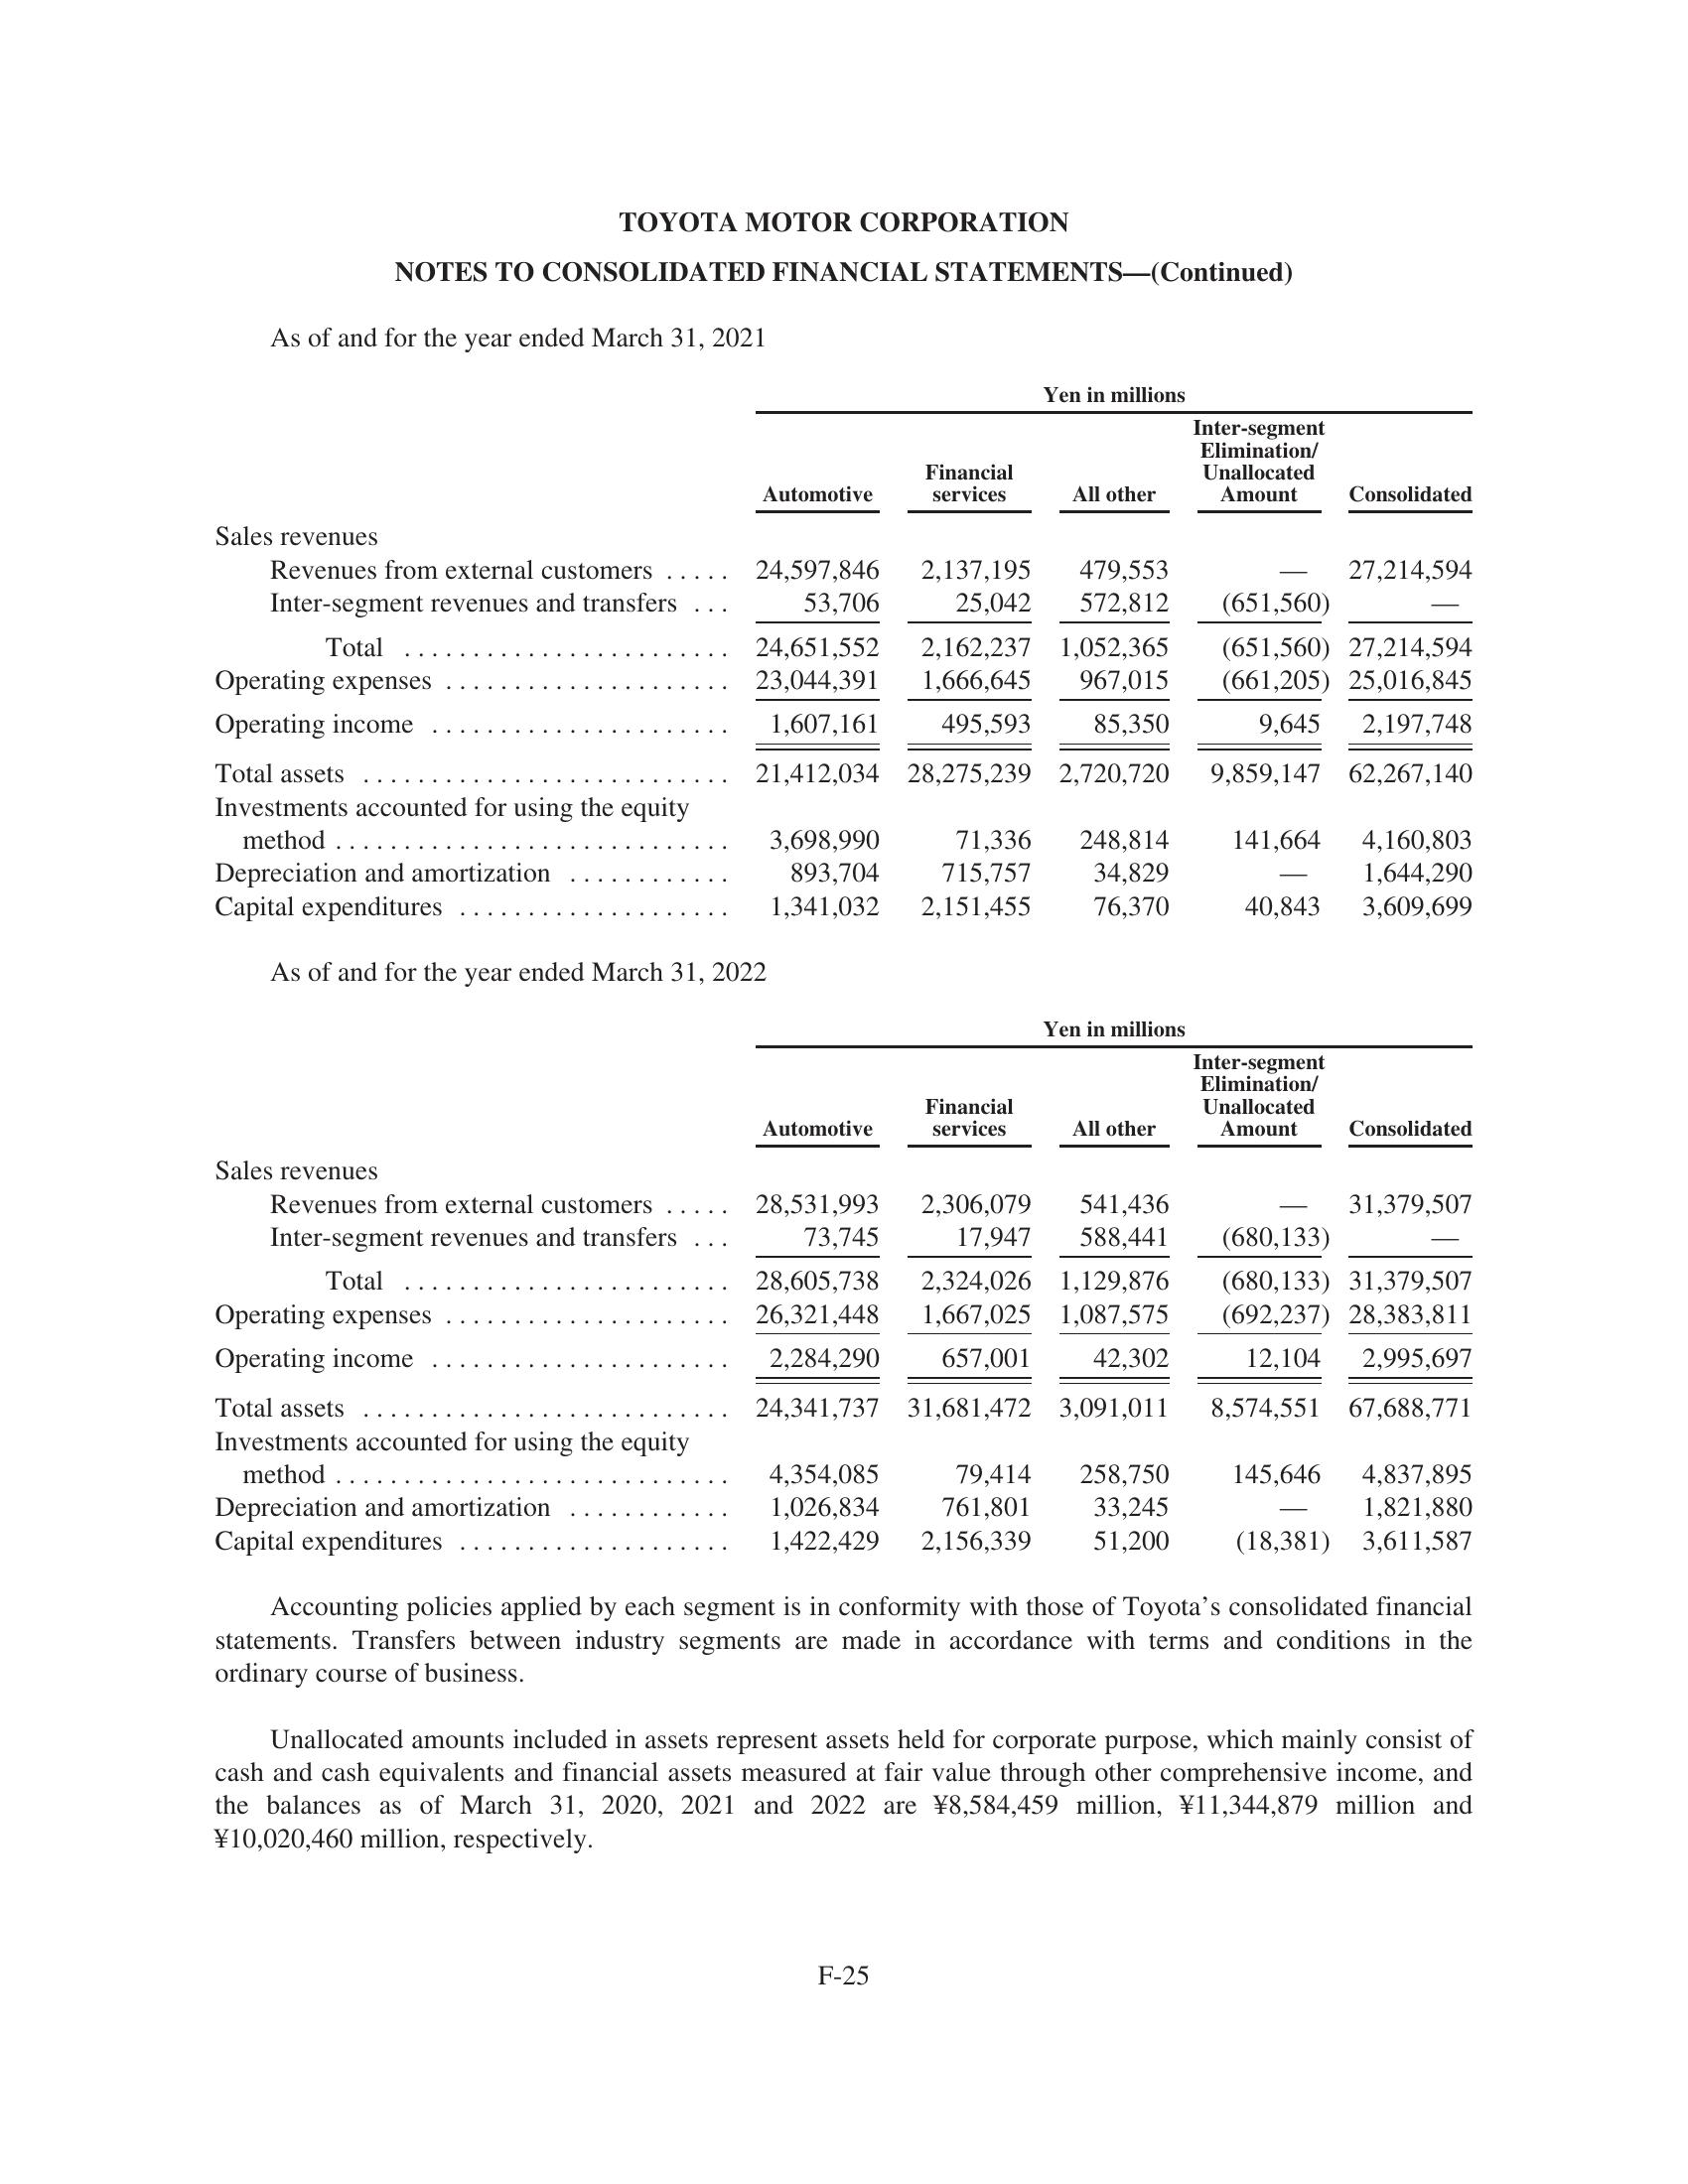Footer: (0, 1946, 1688, 2184)
Header: (0, 0, 1688, 188)
Table: (154, 362, 1528, 932), (160, 996, 1512, 1567)
